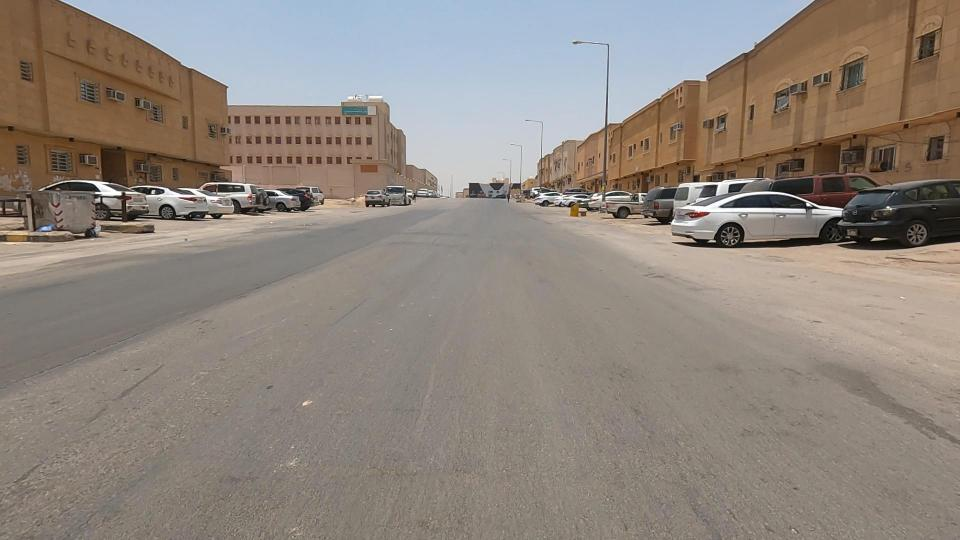GARBAGE: (17, 205, 73, 252), (68, 207, 127, 248)
